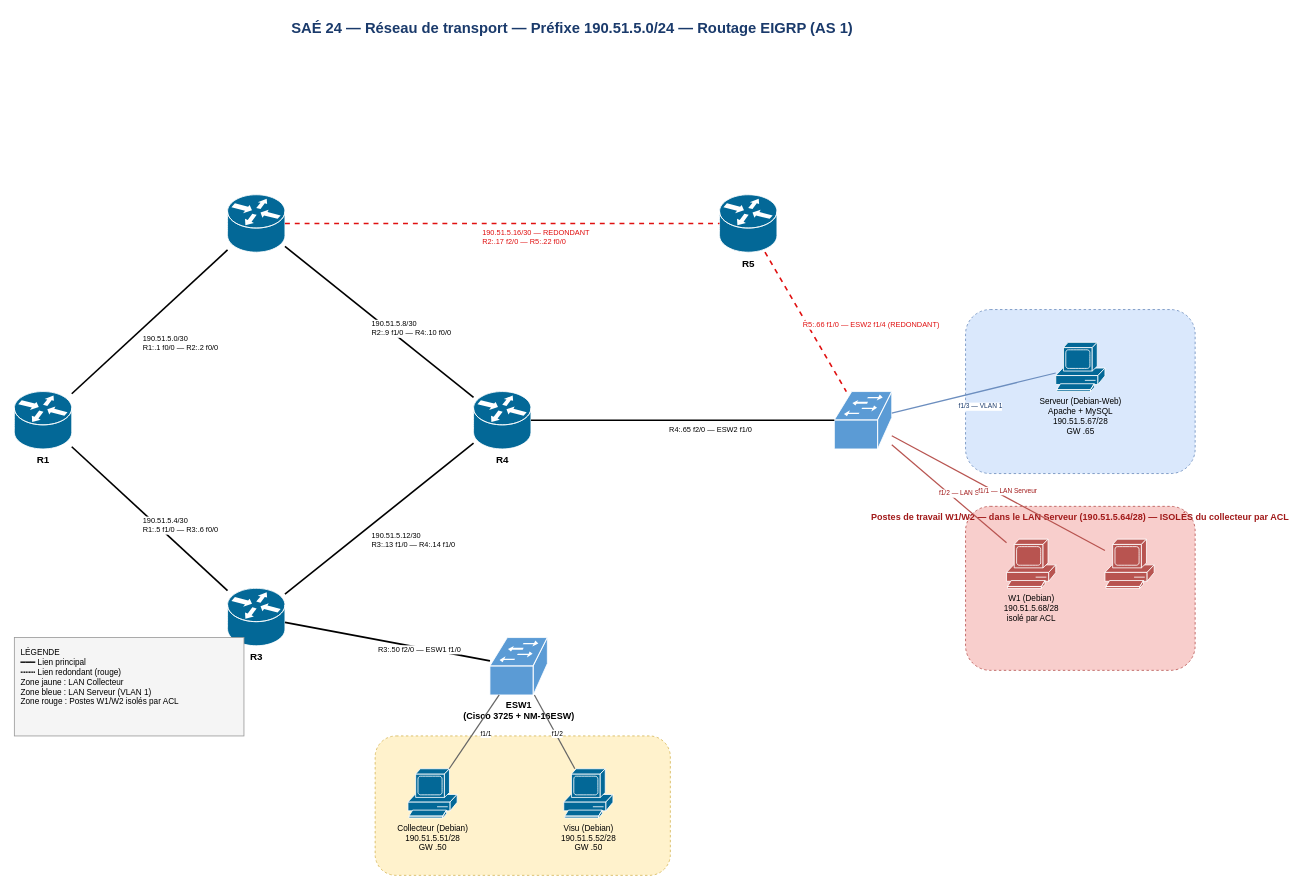
The diagram is 1304 pixels wide and 890 high, and some of its shapes have lost their labels. Each missing label, with the box of its shape:
ESW2 (Cisco 3725 + NM-16ESW): (834, 391, 892, 449)
LAN Collecteur — 190.51.5.48/28 — Gateway R3 : .50: (374, 735, 670, 875)
LAN Serveur — VLAN 1 — 190.51.5.64/28 — Gateways R4 : .65 / R5 : .66: (965, 309, 1195, 474)
R2: (227, 194, 285, 252)
W2 (Debian) 190.51.5.69/28 isolé par ACL: (1104, 538, 1154, 588)
